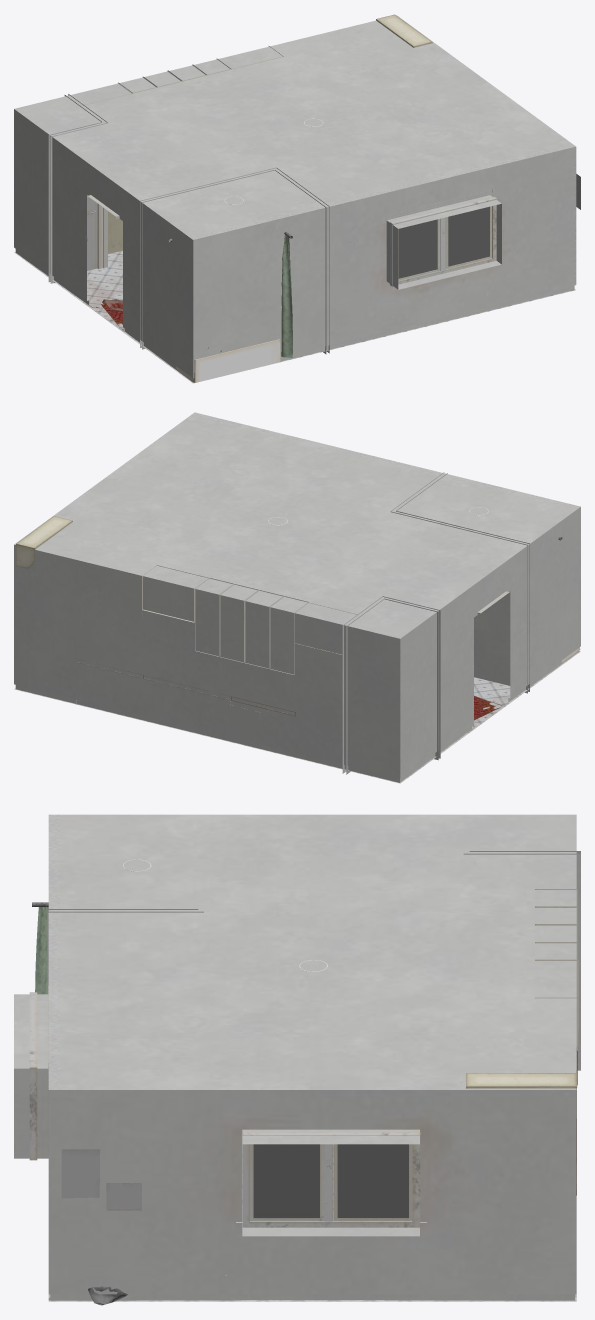
Rendered from amira.glb.
The picture shows the model from 3 angles, top to bottom: view 1: azimuth 30°, elevation 25°; view 2: azimuth 150°, elevation 25°; view 3: azimuth 270°, elevation 25°; orthographic projection. The views are drawn at different scales.
Bounding box in the file's own units: 8.48 × 2.95 × 6.95.
6 materials, 6 textured.
